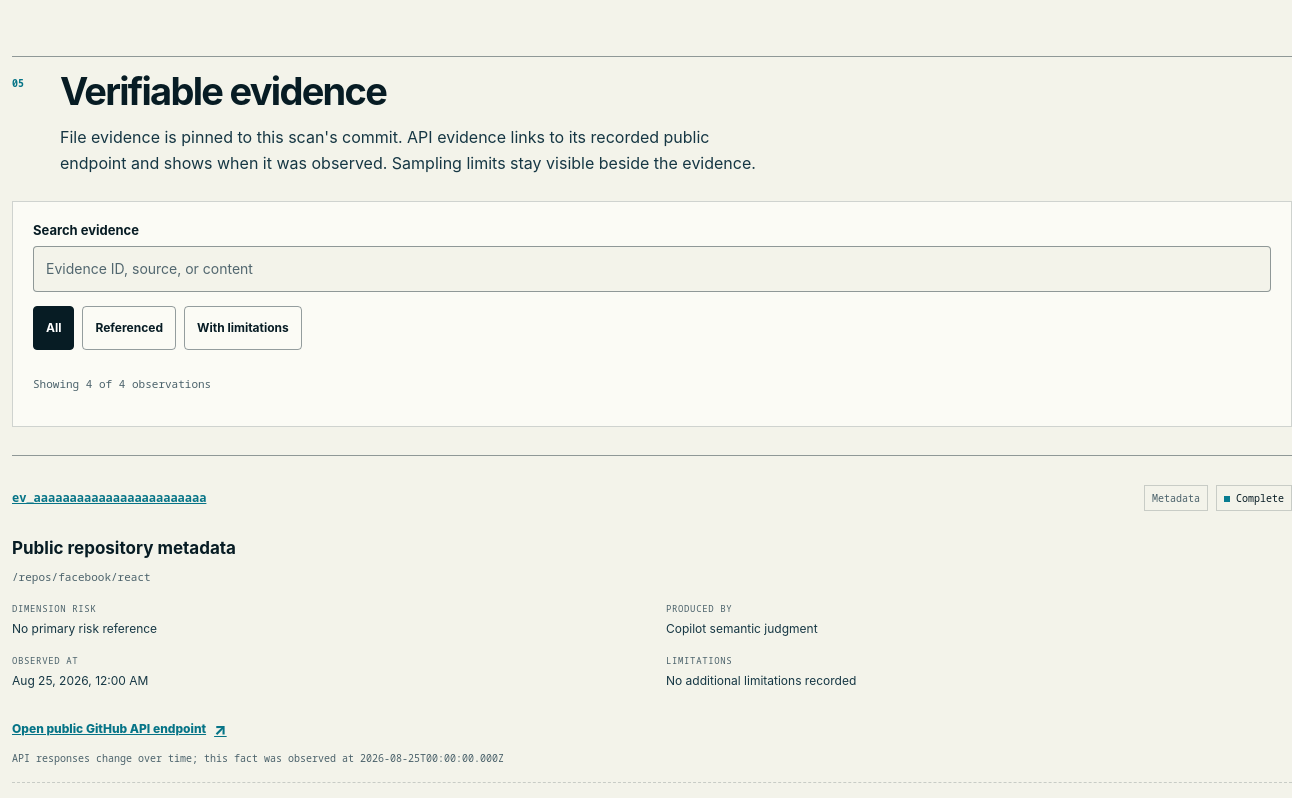
Scenario: Evidence explorer › includes Copilot-only evidence references without treating unknown hash IDs as targets
The width and height of the screenshot is (1292, 798).
Click the button "Referenced" at {"x": 129, "y": 328}, box [82, 306, 176, 350]
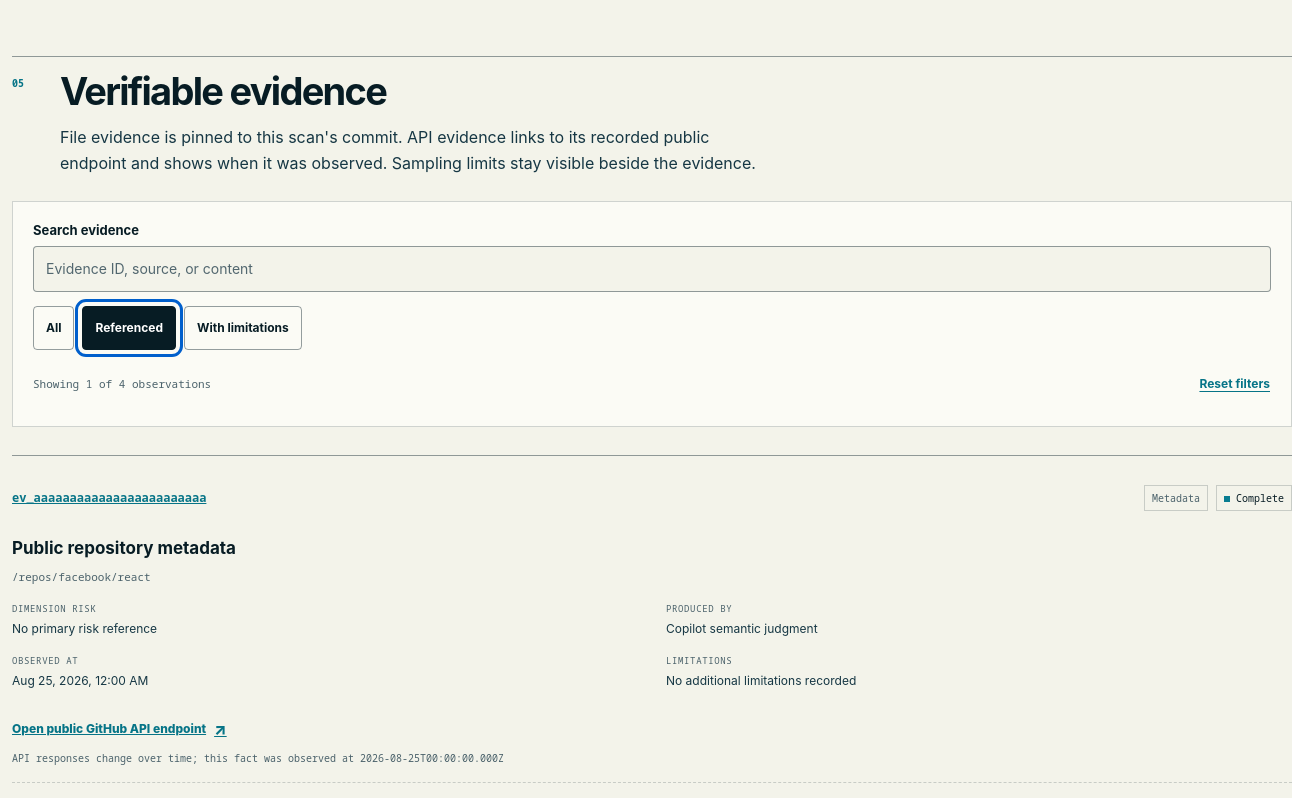
Expected: the message reads "Showing 1 of 4 observations", [33, 376, 211, 391]
